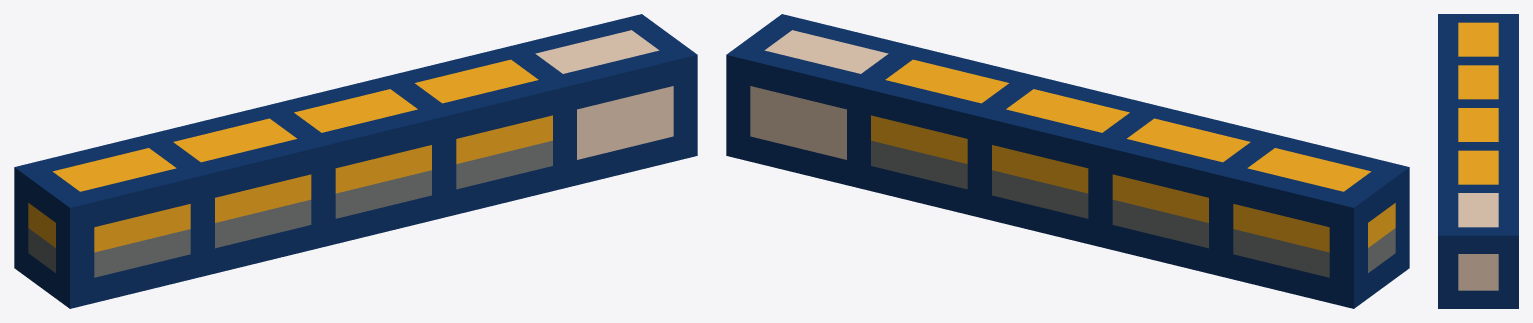
Rendered from segmeter_4.gltf.
3 views of the same model, side by side, from view 1: azimuth 30°, elevation 25°; view 2: azimuth 150°, elevation 25°; view 3: azimuth 270°, elevation 25° (orthographic). The views are drawn at different scales.
Size of the model in its own units: 2.6 by 0.4 by 0.4.
Materials: 1 (1 with a texture image).
